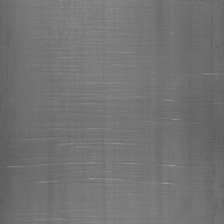waist_folding: (17, 11, 172, 198)
